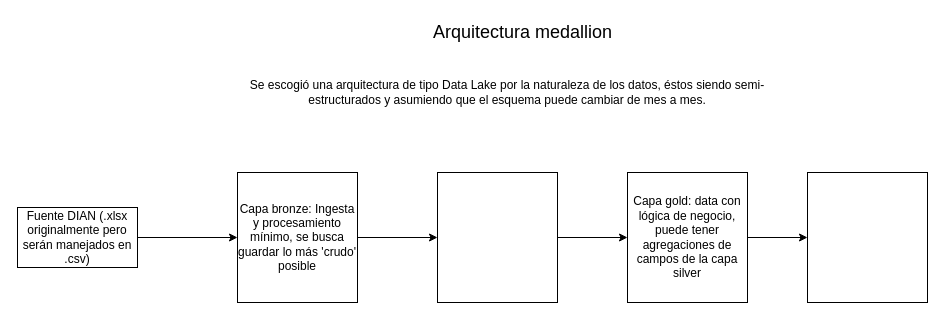
The diagram is 945 pixels wide and 320 high, and some of its shapes have lost their labels. Each missing label, with the centre of its shape:
"BI: Responde preguntas del negocio con base a la información en la capa gold" belongs at pixel 867 237.
"Capa silver: data filtrada y limpiada" belongs at pixel 497 237.
